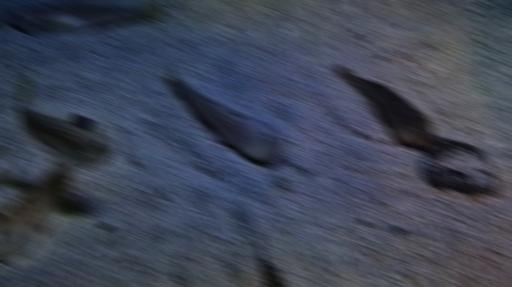Fish: (169, 71, 286, 161), (16, 75, 115, 169), (337, 66, 434, 148), (0, 165, 78, 256), (6, 1, 163, 35), (258, 244, 283, 286), (73, 116, 92, 128)
